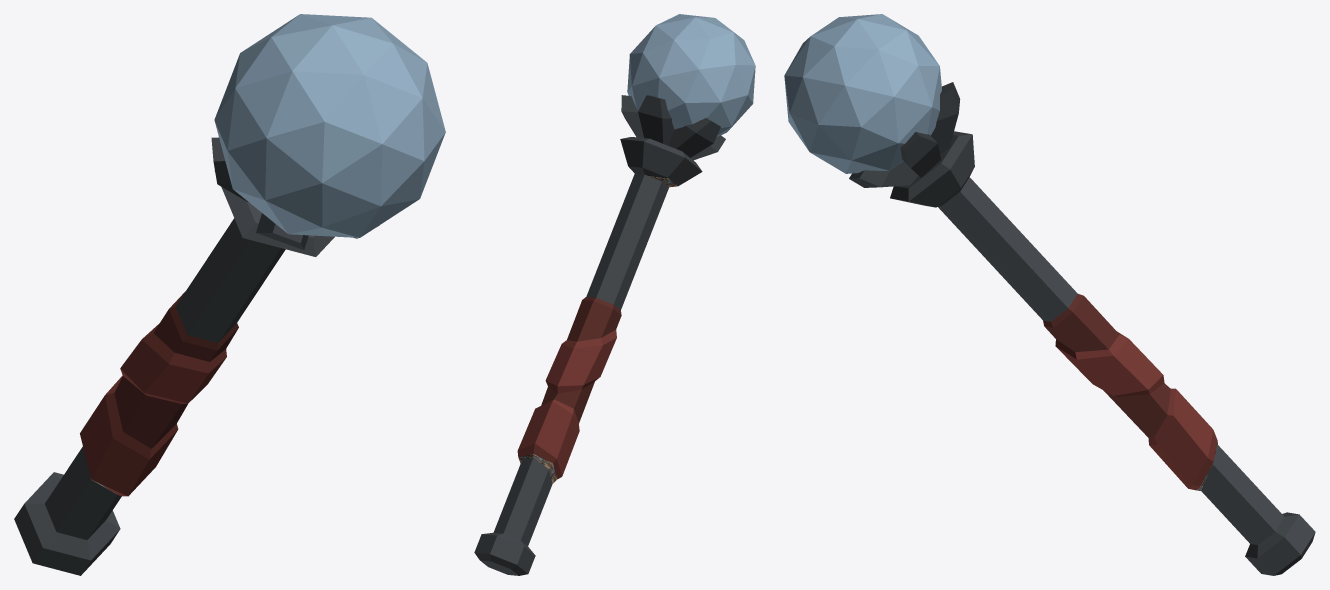
File: fk-sceptre-09.glb
3 renders of one model, left to right at view 1: azimuth 30°, elevation 25°; view 2: azimuth 150°, elevation 25°; view 3: azimuth 270°, elevation 25°, orthographic. The views are drawn at different scales.
Parts seen in each view (by area): view 1: fk-sceptre-09; view 2: fk-sceptre-09; view 3: fk-sceptre-09.
Part boxes in pixels (x1,y1,x2,y2): fk-sceptre-09: (14,14,445,575); fk-sceptre-09: (474,14,755,575); fk-sceptre-09: (784,14,1315,575).
Bounding box in the file's own units: 0.1376 × 0.5027 × 0.4455.
1 material, 1 textured.
